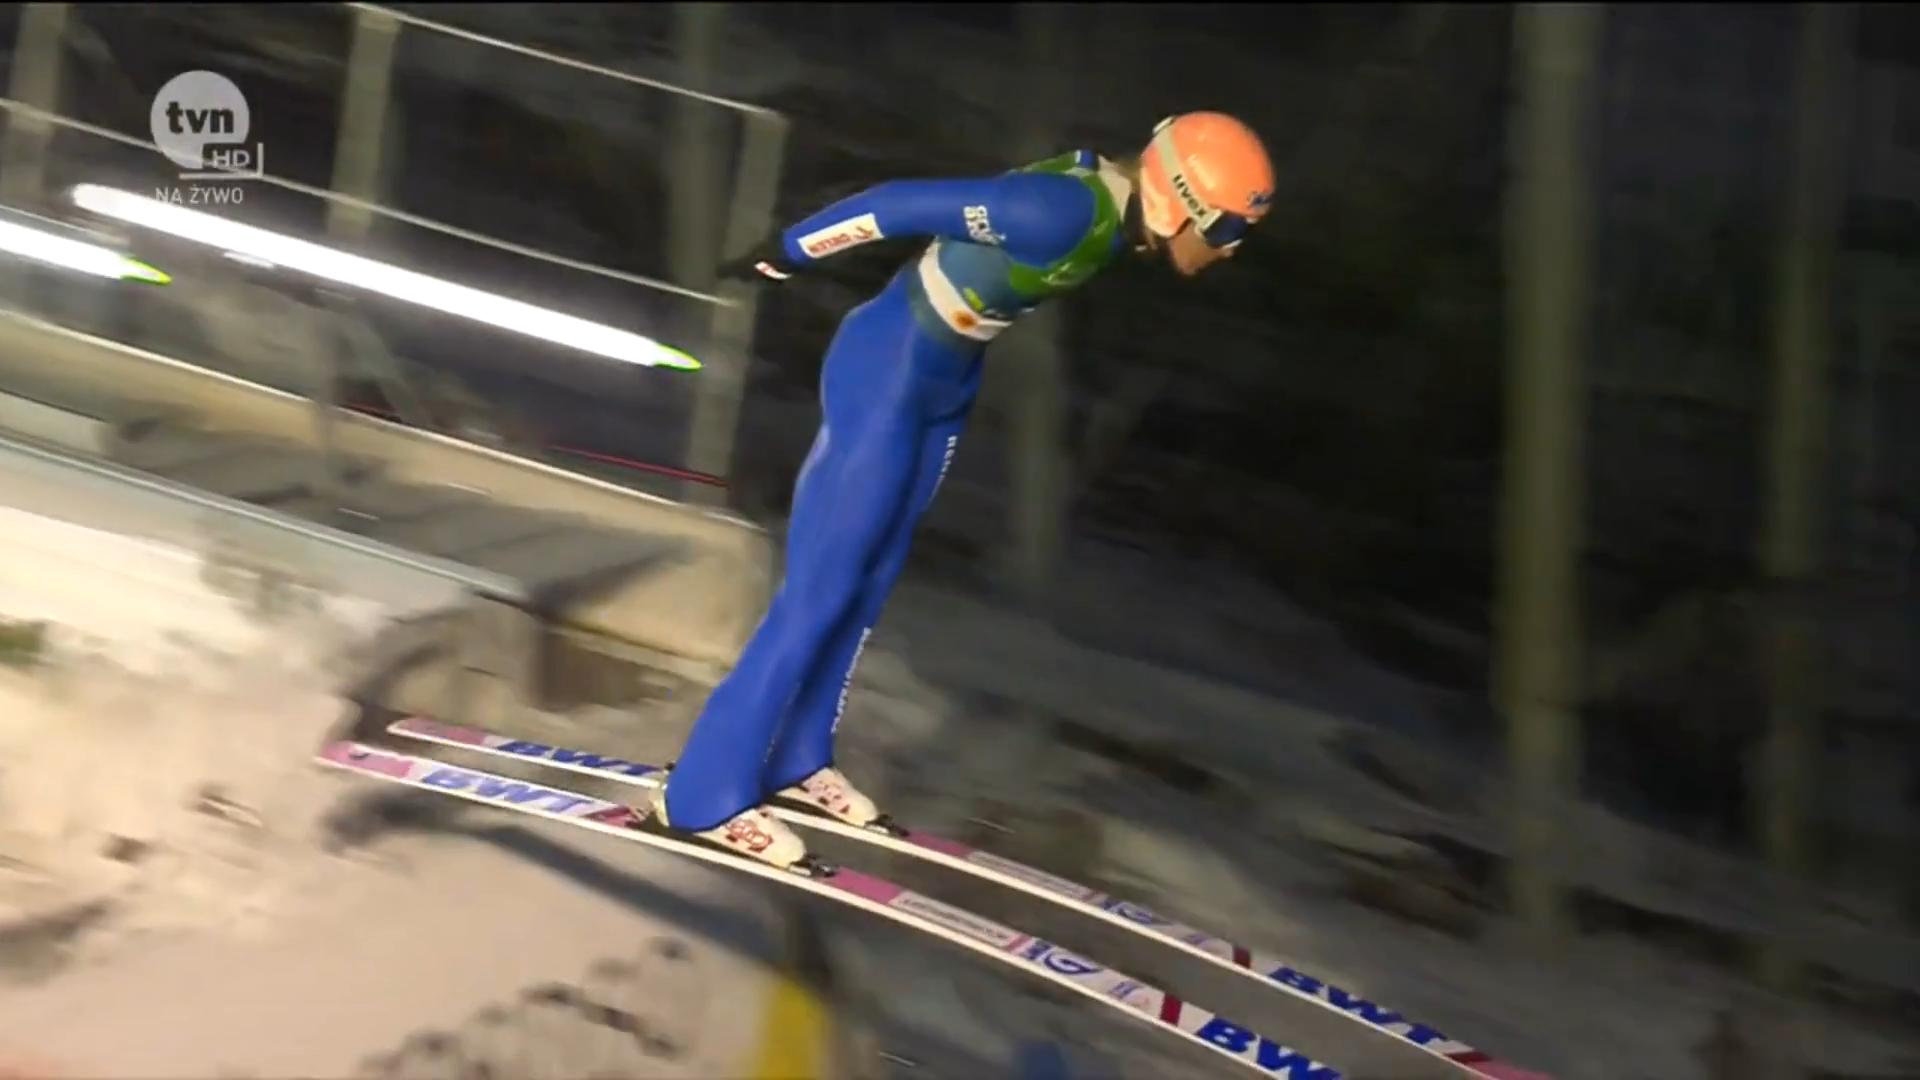prog: (352, 538, 695, 680)
